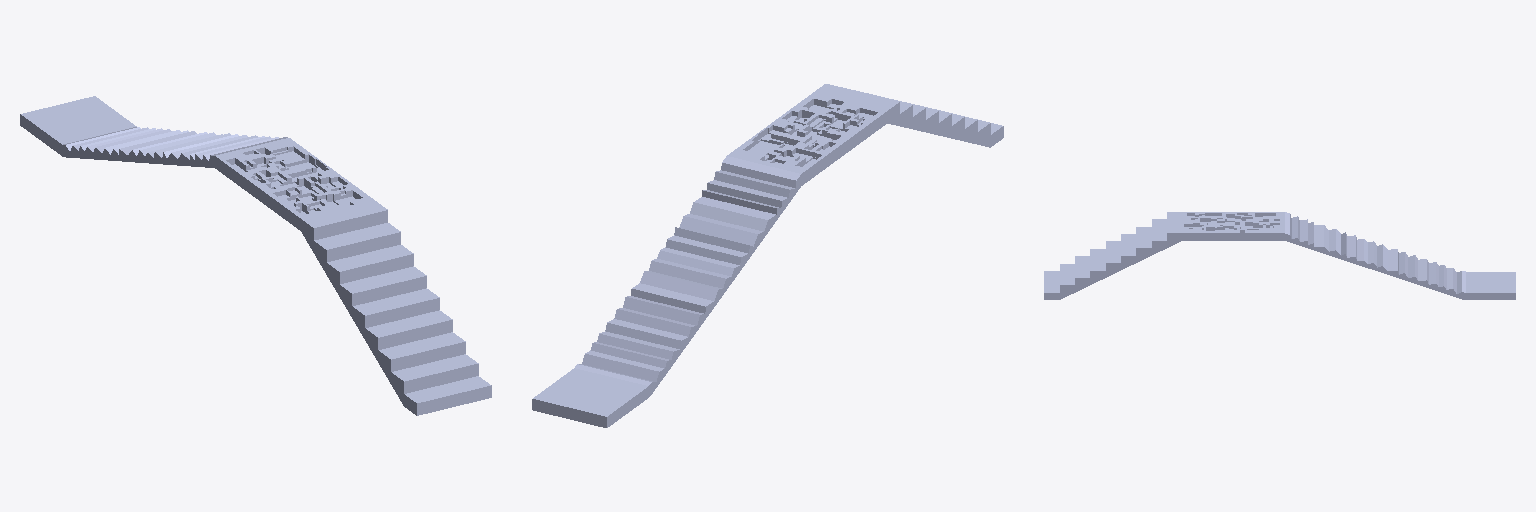
URDF robot description (step_type3.SLDPRT):
<robot
  name="step_type3.SLDPRT">
  <link
    name="STEP_TYPE3">
    <inertial>
      <origin
        xyz="0.49856 2.8411 0.10248"
        rpy="0 0 0" />
      <mass
        value="1436.2" />
      <inertia
        ixx="11444.8760550179"
        ixy="0.619773209771961"
        ixz="-1.32446562961048"
        iyy="437.578138946657"
        iyz="469.155020280113"
        izz="11249.8188963089" />
    </inertial>
    <visual>
      <origin
        xyz="0 0 0"
        rpy="1.5707963267949 0 0" />
      <geometry>
        <mesh
          filename="package://STEP_TYPE3/meshes/STEP_TYPE3.STL" />
      </geometry>
      <material
        name="">
        <color
          rgba="0.79216 0.81961 0.93333 1" />
      </material>
    </visual>
    <collision>
      <origin
        xyz="0 0 0"
        rpy="1.5707963267949 0 0" />
      <geometry>
        <mesh
          filename="package://STEP_TYPE3/meshes/STEP_TYPE3.STL" />
      </geometry>
    </collision>
  </link>
</robot>

--- What the picture shows (computed from the rendered views, not written in the file) ---
The picture shows the robot from 3 angles, left to right: view 1: azimuth 30°, elevation 25°; view 2: azimuth 150°, elevation 25°; view 3: azimuth 270°, elevation 25°; orthographic projection.
Robot: step_type3.SLDPRT — 1 links, 0 joints (none); root link STEP_TYPE3; default pose: every joint at zero.
Links seen in each view (by area): view 1: STEP_TYPE3; view 2: STEP_TYPE3; view 3: STEP_TYPE3.
Boxes of the visible links, <box> form: STEP_TYPE3: <box>20,96,491,415</box>; STEP_TYPE3: <box>532,84,1003,427</box>; STEP_TYPE3: <box>1044,212,1515,299</box>.
Size in the robot's own frame: 1 by 9.22 by 1.44 metres.
1 mesh visuals loaded from 1 distinct referenced files (1 binary STL).